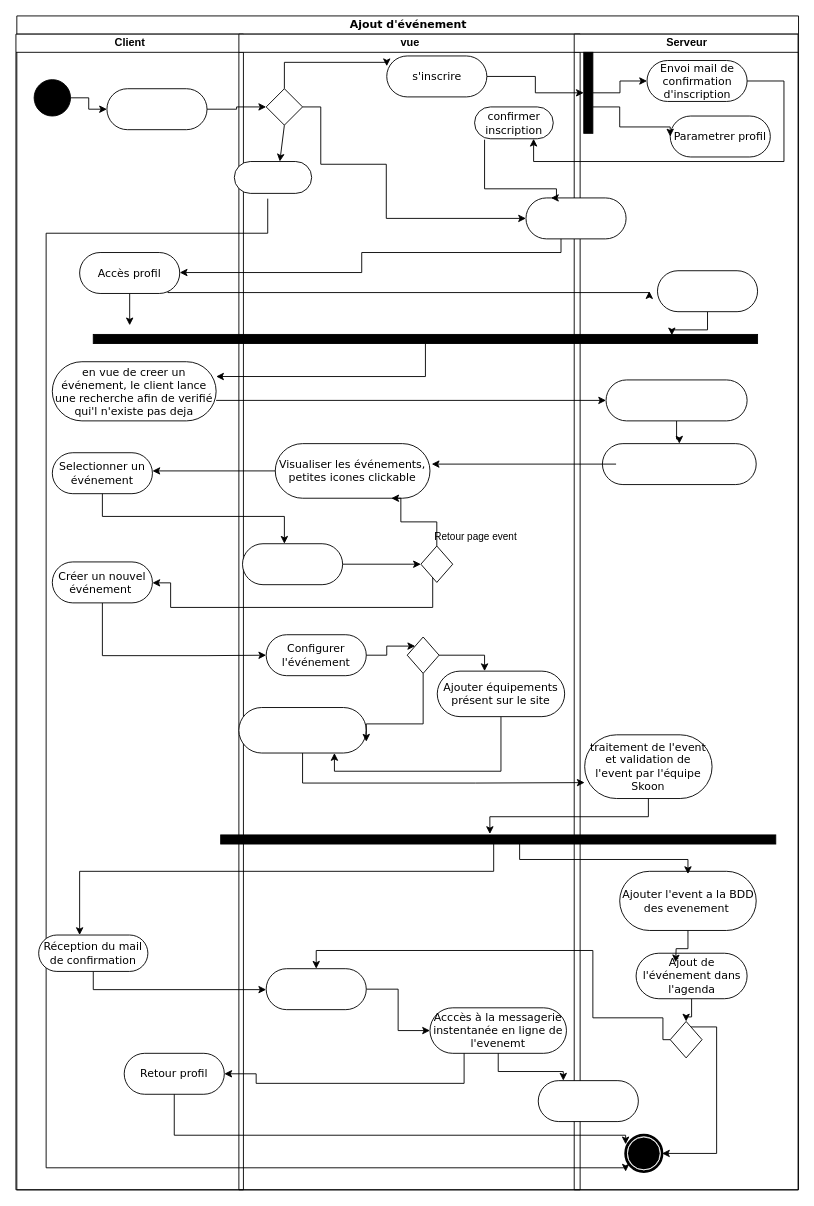
The diagram is 814 pixels wide and 1206 high, and some of its shapes have lost their labels. The centre of each missing label's shape, as x and y in pixels:
"aller sur Skoon" belongs at pixel 156 109.
"Chargement des événements triers" belongs at pixel 679 464.
"Gèrer page mon événement" belongs at pixel 315 989.
"Lecture de la descrition" belongs at pixel 292 564.
"Modifier informations & localisation" belongs at pixel 707 291.
"Naviguer sur Skoon" belongs at pixel 272 177.
"Participation au tchat avec les autres Skooners" belongs at pixel 587 1101.
"Recupère événements trier par localisation client" belongs at pixel 676 400.
"se connecter" belongs at pixel 575 218.
"Validation de l'événement" belongs at pixel 302 730.
